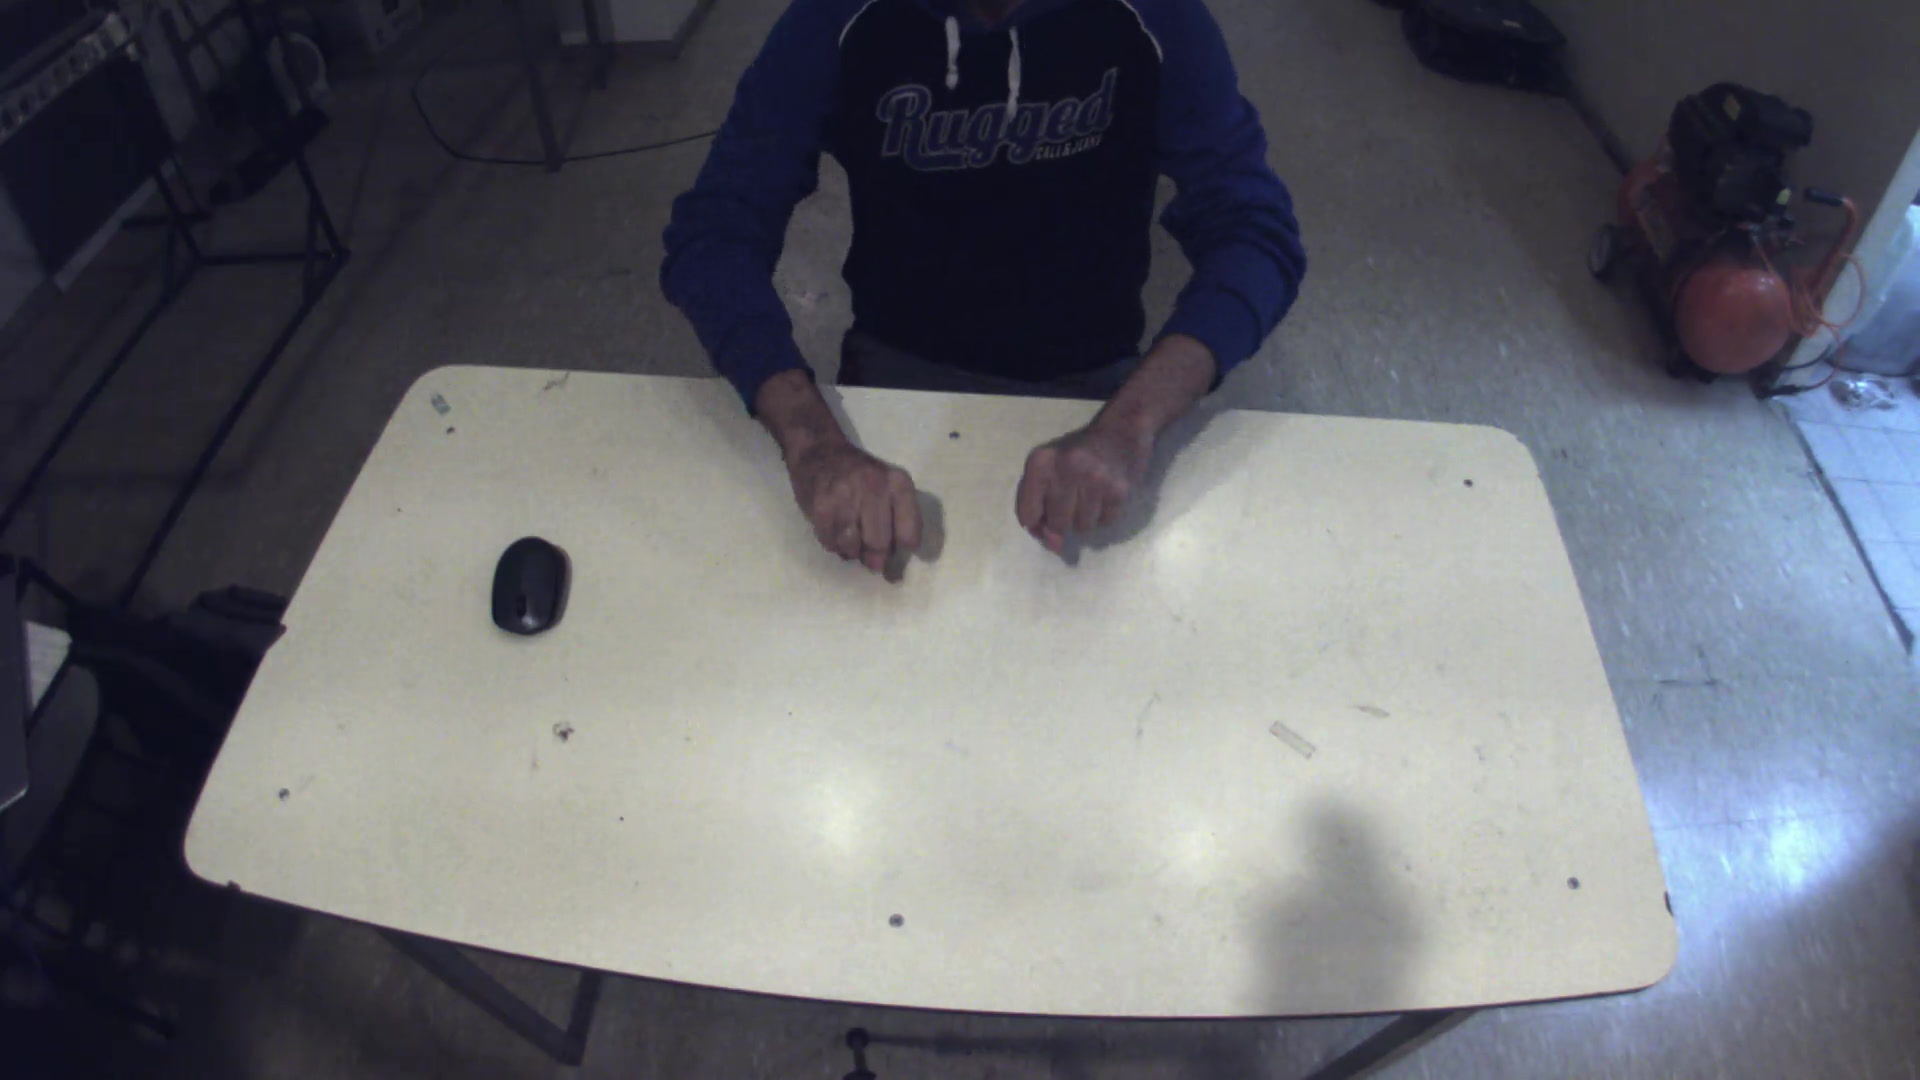hand: (775, 411, 938, 580), (1007, 402, 1158, 553)
